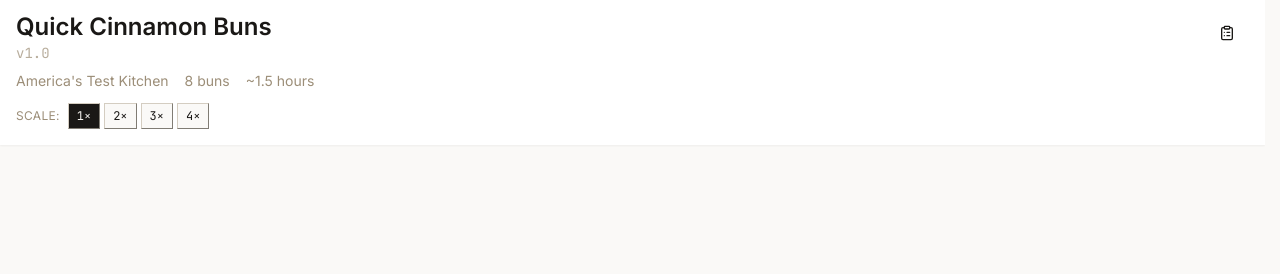
Scenario: Scaling › shows untested warning beyond tested range
The width and height of the screenshot is (1280, 274).
Click the button "4×" at (193, 116), box [177,103,209,129]
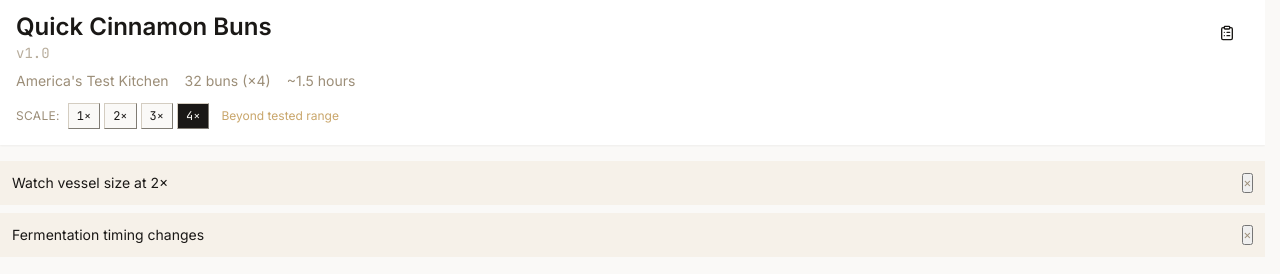
Now the text "Beyond tested range" is shown, box [221,108,339,124]
